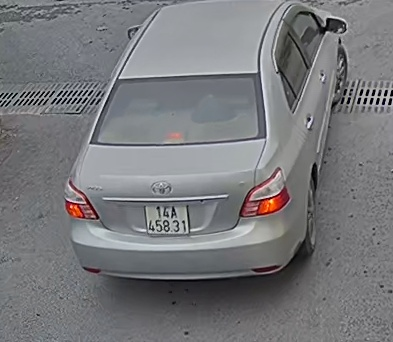vehicle plate: (144, 202, 195, 239)
